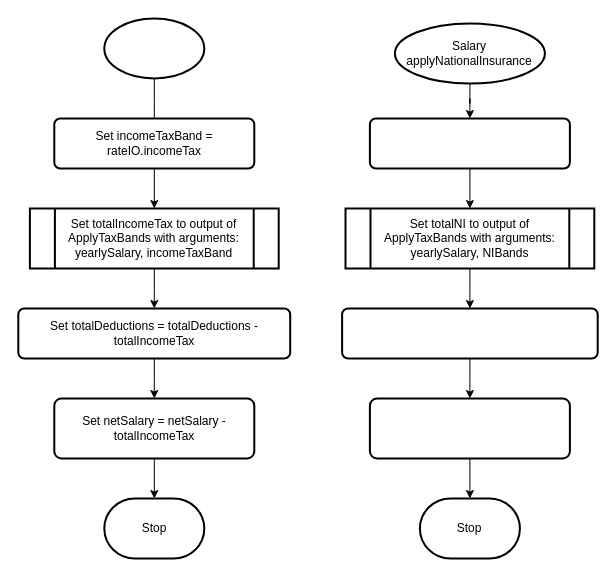
Image size: 616x576. Some labels were removed from this diagram. The centre of each missing label's shape, as x and y in pixels:
Salary applyIncomeTax: the point at 154,48
Set netSalary = netSalary - totalNI: the point at 469,428
Set NIBands = rateIO.nationalInsurance: the point at 469,143
Set totalDeductions = totalDeductions - totalNI: the point at 469,333
